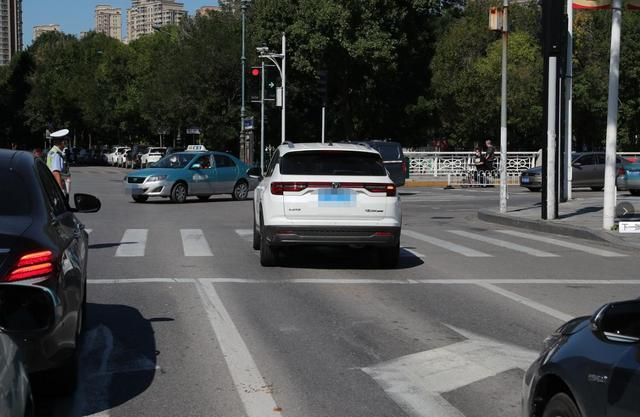camera: (254, 44, 270, 54)
car: (0, 145, 88, 371), (254, 142, 405, 268), (521, 296, 640, 417), (124, 149, 251, 203), (524, 153, 640, 194)
person: (46, 138, 69, 181), (484, 138, 494, 169), (472, 149, 482, 175)
traffic light: (250, 65, 277, 101)
